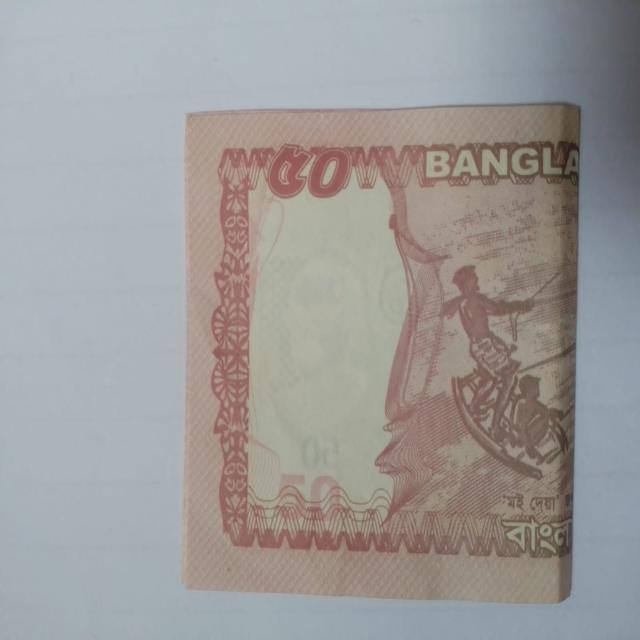Taka: (176, 93, 575, 603)
